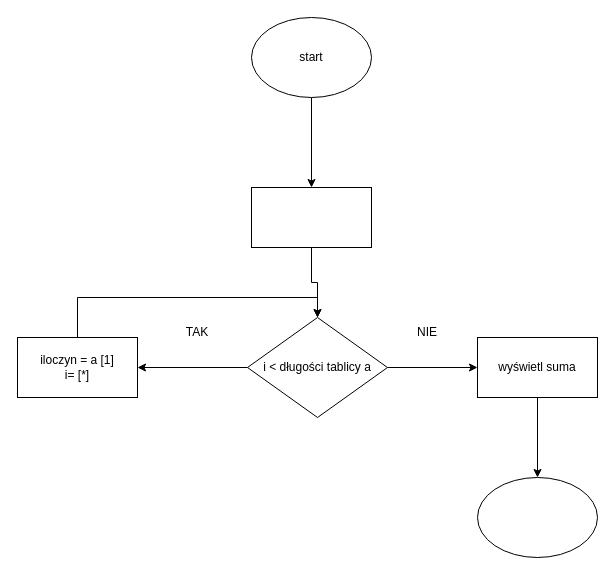
Some shapes in this 615 by 575 pixel diagram are drawn without their labels. The shapes that lost their labels are listed below. From the top down, each one's centre as x and y in pixels, then its label:
At point (311, 217): "i = 0 iloczyn = 0".
At point (537, 517): "stop".
